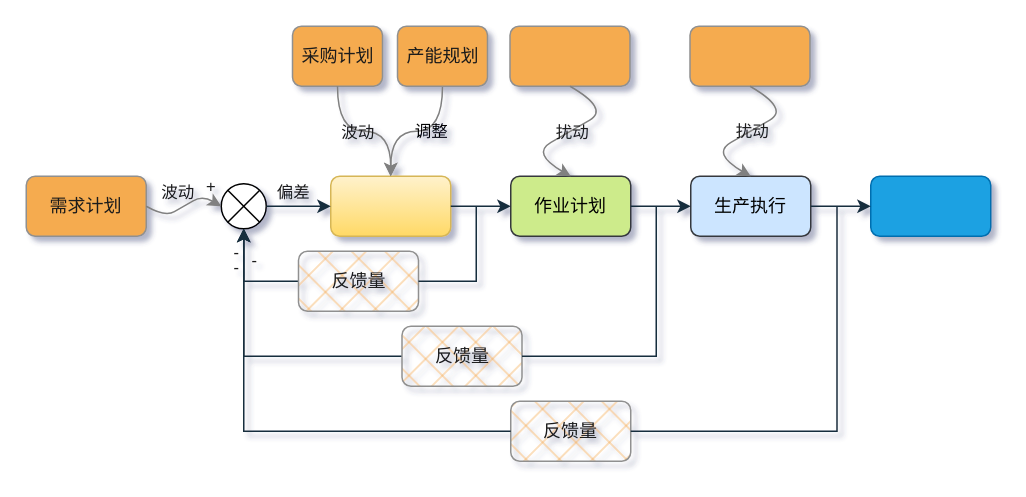
Image size: 1026x497. Some labels were removed from this diagram. Each missing label, with the centre of its shape:
主生产计划: (390,205)
产出量: (930,205)
产能: (749,55)
紧急任务: (569,55)
